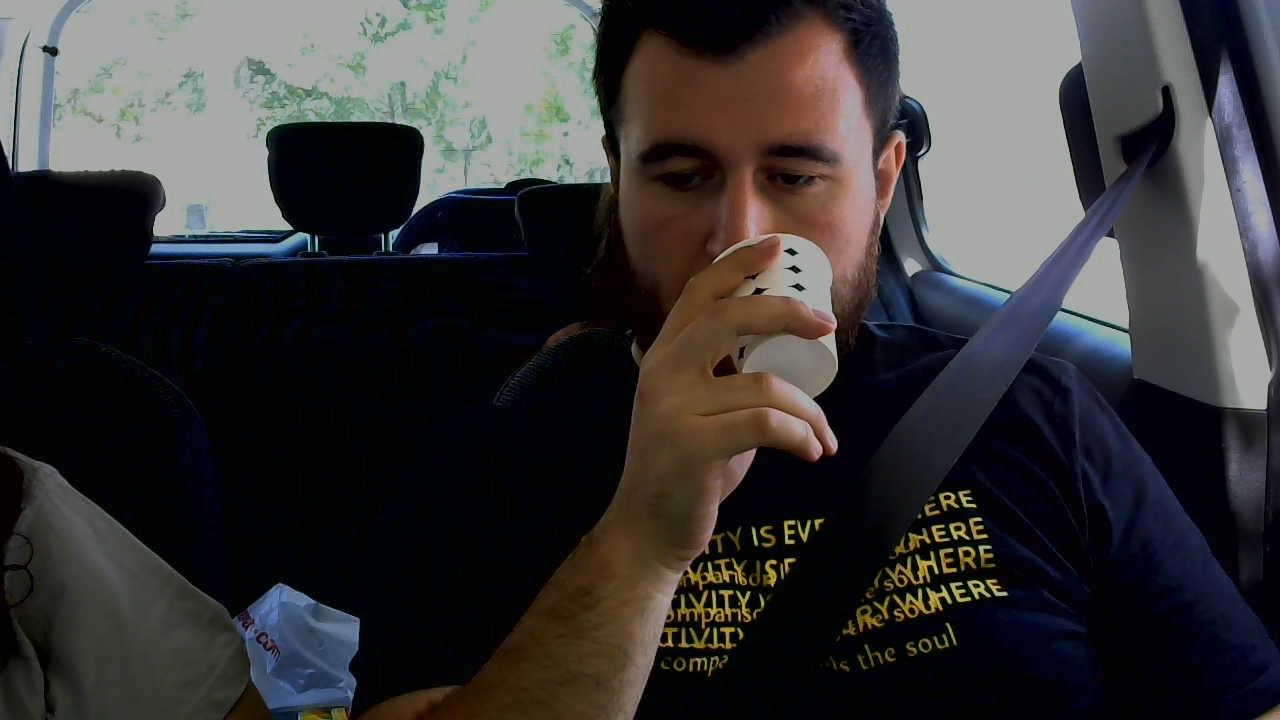Drinking: (697, 234, 843, 406)
